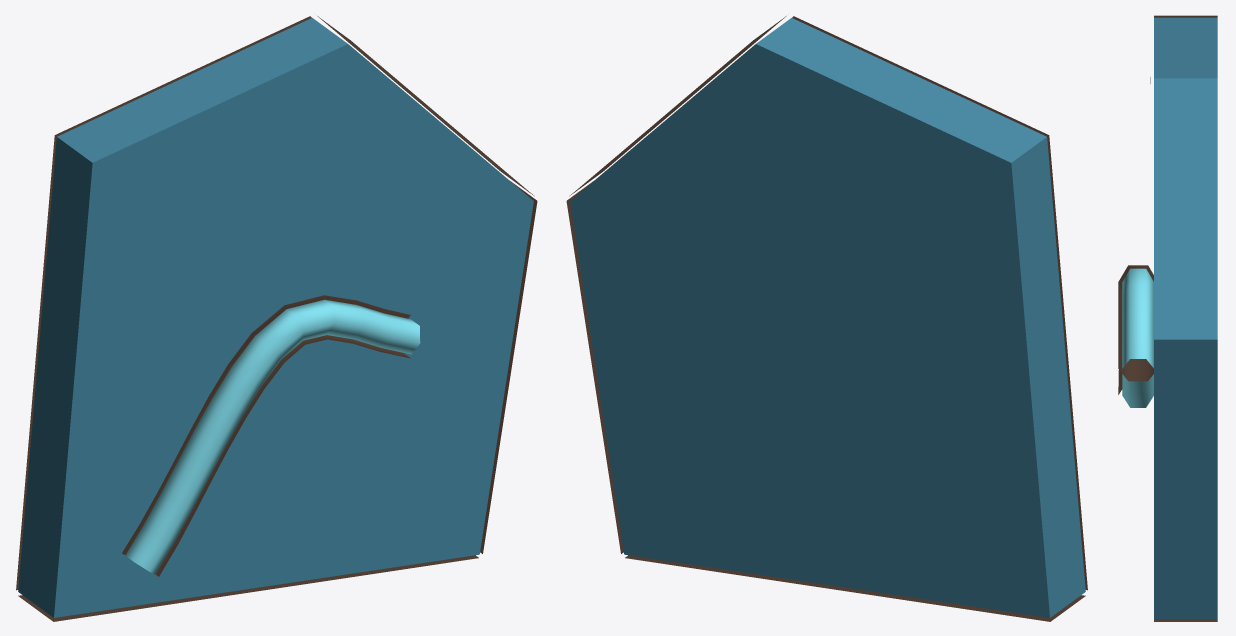
The model's file is prop_60025.glb.
3 views of the same model, side by side, from view 1: azimuth 30°, elevation 25°; view 2: azimuth 150°, elevation 25°; view 3: azimuth 270°, elevation 25° (orthographic). The views are drawn at different scales.
Parts seen in each view (by area): view 1: prop_60025; view 2: prop_60025; view 3: prop_60025.
Part boxes in pixels (x1,y1,x2,y2): prop_60025: [16, 16, 537, 621]; prop_60025: [566, 16, 1087, 621]; prop_60025: [1118, 15, 1217, 621].
Size of the model in its own units: 0.7694 by 0.83 by 0.159.
